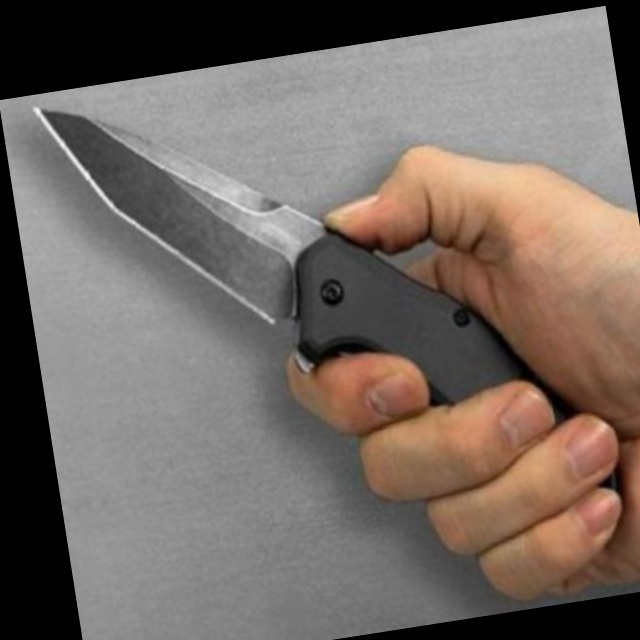Sharp-Object: (34, 29, 622, 573)
